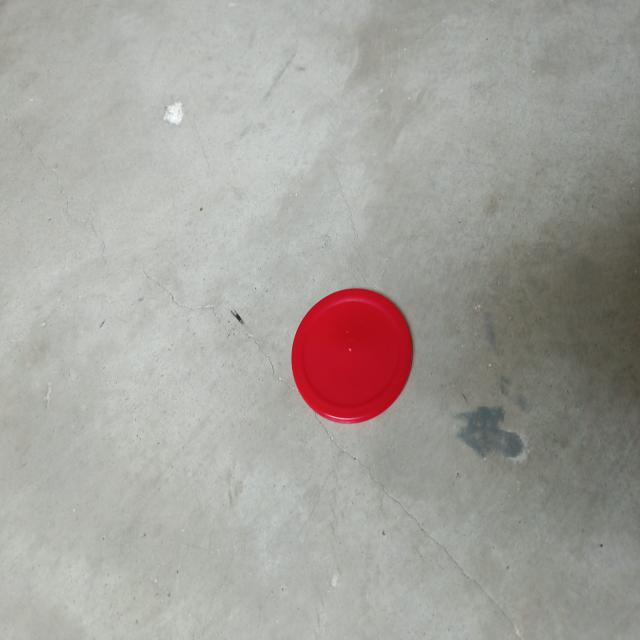chip: (290, 285, 410, 423)
